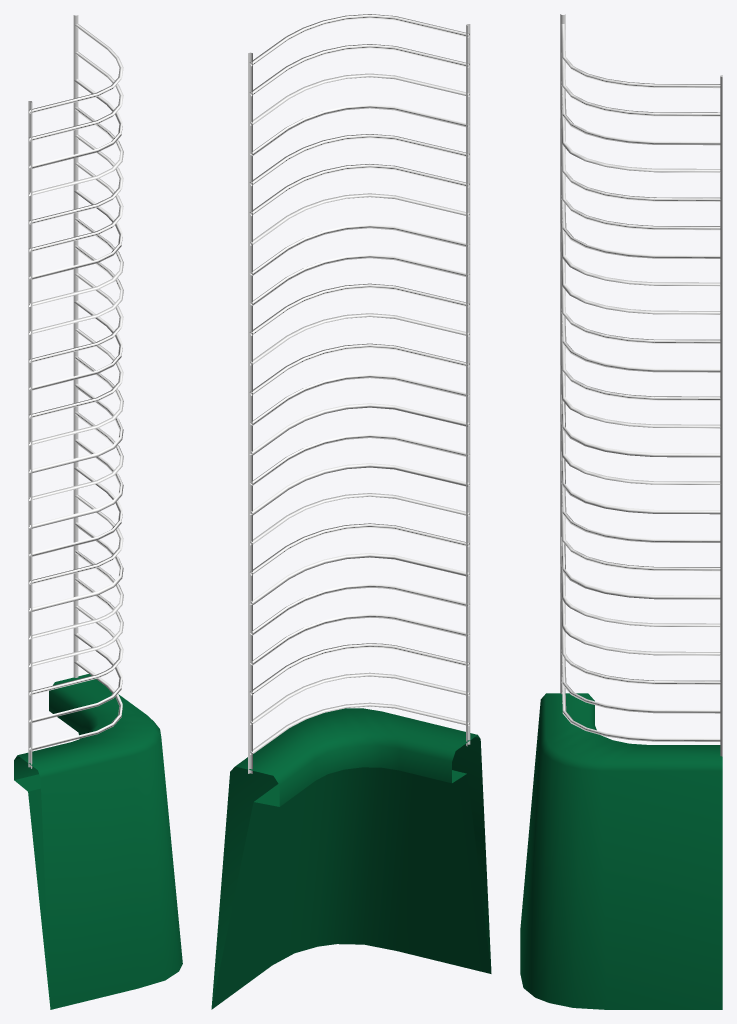
Rendered from Gabbia_muro_L2.fbx.
3 views of the same model, side by side, from view 1: azimuth 30°, elevation 25°; view 2: azimuth 150°, elevation 25°; view 3: azimuth 270°, elevation 25° (orthographic). The views are drawn at different scales.
Parts seen in each view (by area): view 1: mesh; view 2: mesh; view 3: mesh.
Part boxes in pixels (<box>): mesh: <box>14,15,182,1009</box>; mesh: <box>211,14,491,1009</box>; mesh: <box>520,14,722,1009</box>.
Size of what is drawn, in the model's own units: 2617 by 13931 by 2790.
2 materials, 2 textured.
